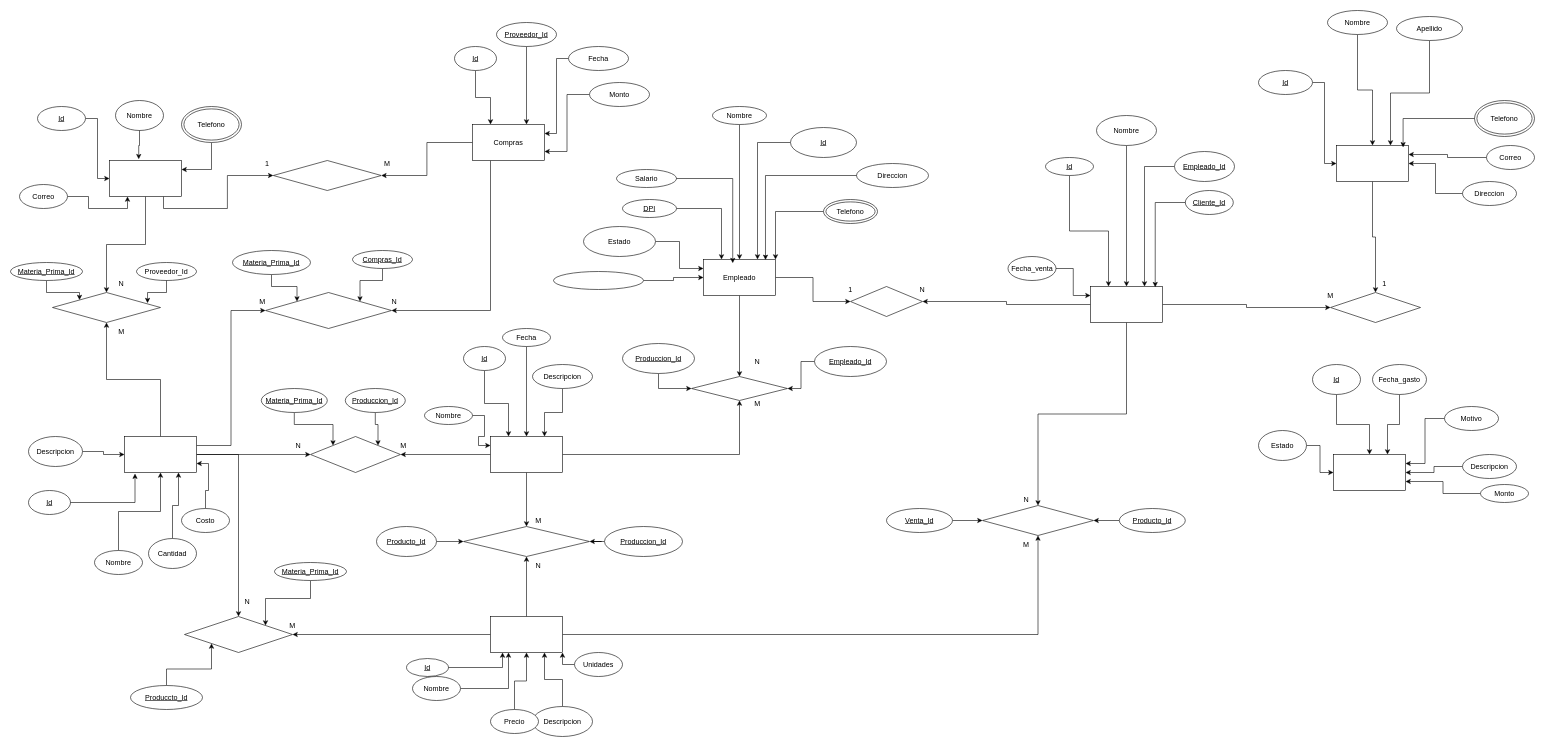
This 1545x747 diagram has some shape labels left out. Each missing label, with the box of its shape:
Cliente: (1336, 145, 1408, 182)
Detalle_compra: (273, 160, 381, 190)
Detalle_compraMP: (265, 292, 392, 328)
Detalle_fabricacion: (463, 526, 590, 556)
Detalle_Prod_Vendido: (982, 505, 1094, 536)
Detalle_realizacion: (691, 376, 788, 400)
Detalle_suministro: (52, 292, 160, 322)
Detalle_utilizacion: (184, 616, 292, 652)
Detalle_utilizado: (310, 436, 400, 472)
Detalle_vendido: (1330, 292, 1420, 322)
Detalle_venta: (850, 286, 922, 316)
Fecha_contratacion: (553, 271, 644, 290)
Gastos_Operativos: (1333, 454, 1406, 490)
Materia_Prima: (124, 436, 196, 472)
Produccion: (490, 436, 562, 472)
Producto: (490, 616, 562, 652)
Proveedor: (109, 160, 182, 196)
Venta: (1090, 286, 1162, 322)
